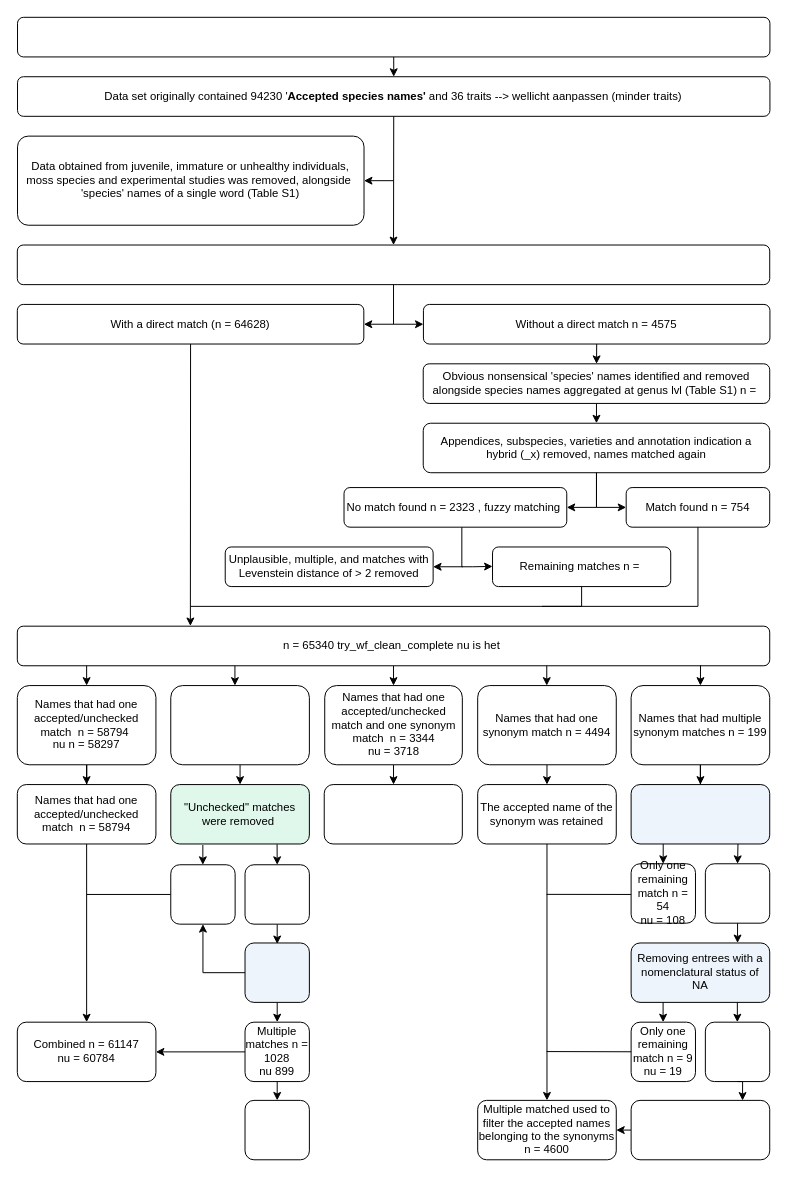
Image size: 788x1177. Some labels were removed from this diagram. The shapes that lost their labels are listed below. From the top down, each one's box as (x1, y1, x2, y2) in pixels, then its label:
(17, 16, 770, 57): TRY database (data requested on ...)
(16, 244, 770, 285): Accepted species names were matched against the WFO backbone n = 69203
(170, 685, 309, 765): Names that had multiple accepted/unchecked matches n = 2353 nu = 2487
(323, 784, 462, 844): Accepted/unchecked match was assumed to be the right one
(630, 784, 770, 844): Only retaining entrees with a nomenclatural status of "Valid" or NA
(170, 864, 235, 924): Only one remaining match n = 1325 nu = 1588
(244, 864, 309, 924): Multiple matches n = 907 nu = 790
(704, 863, 770, 923): Multiple matches n = 102 NU 86
(244, 942, 309, 1002): "Valid" matches retained
(704, 1021, 770, 1082): Multiple matches n = 91 nu = 67
(244, 1099, 309, 1160): Names saved
(630, 1099, 770, 1160): Matches checked against accepted names in TRY
